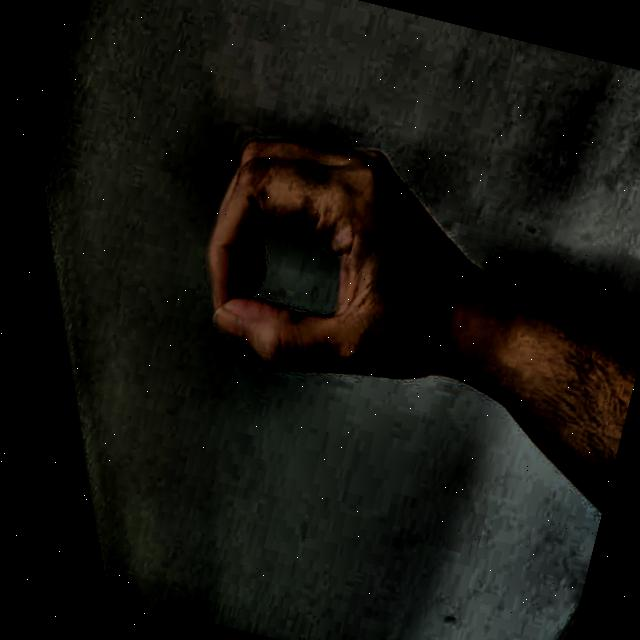O: (152, 91, 512, 452)
